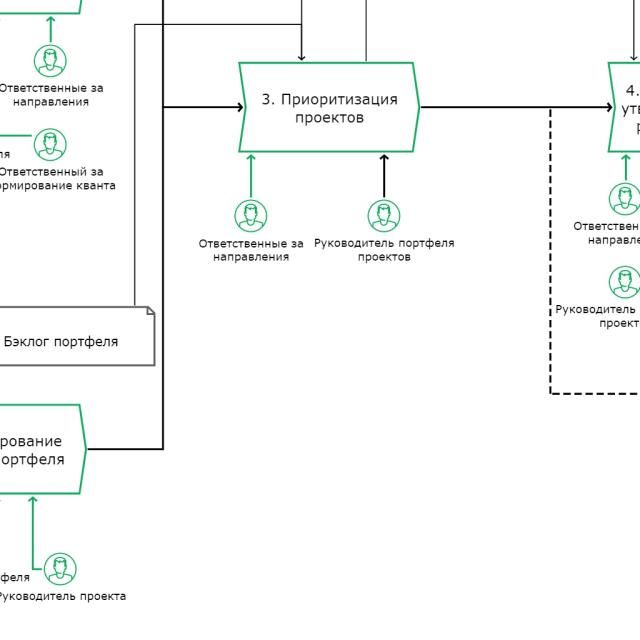arrow: (88, 101, 244, 451), (131, 23, 307, 303), (420, 102, 614, 113), (27, 496, 42, 573), (246, 155, 255, 200), (379, 154, 388, 198), (46, 15, 57, 44)
circle: (228, 193, 274, 239), (44, 553, 76, 585), (34, 45, 66, 77), (34, 129, 66, 161), (368, 200, 399, 232), (609, 182, 639, 215), (609, 266, 639, 298)
rectangle: (236, 61, 418, 154)
